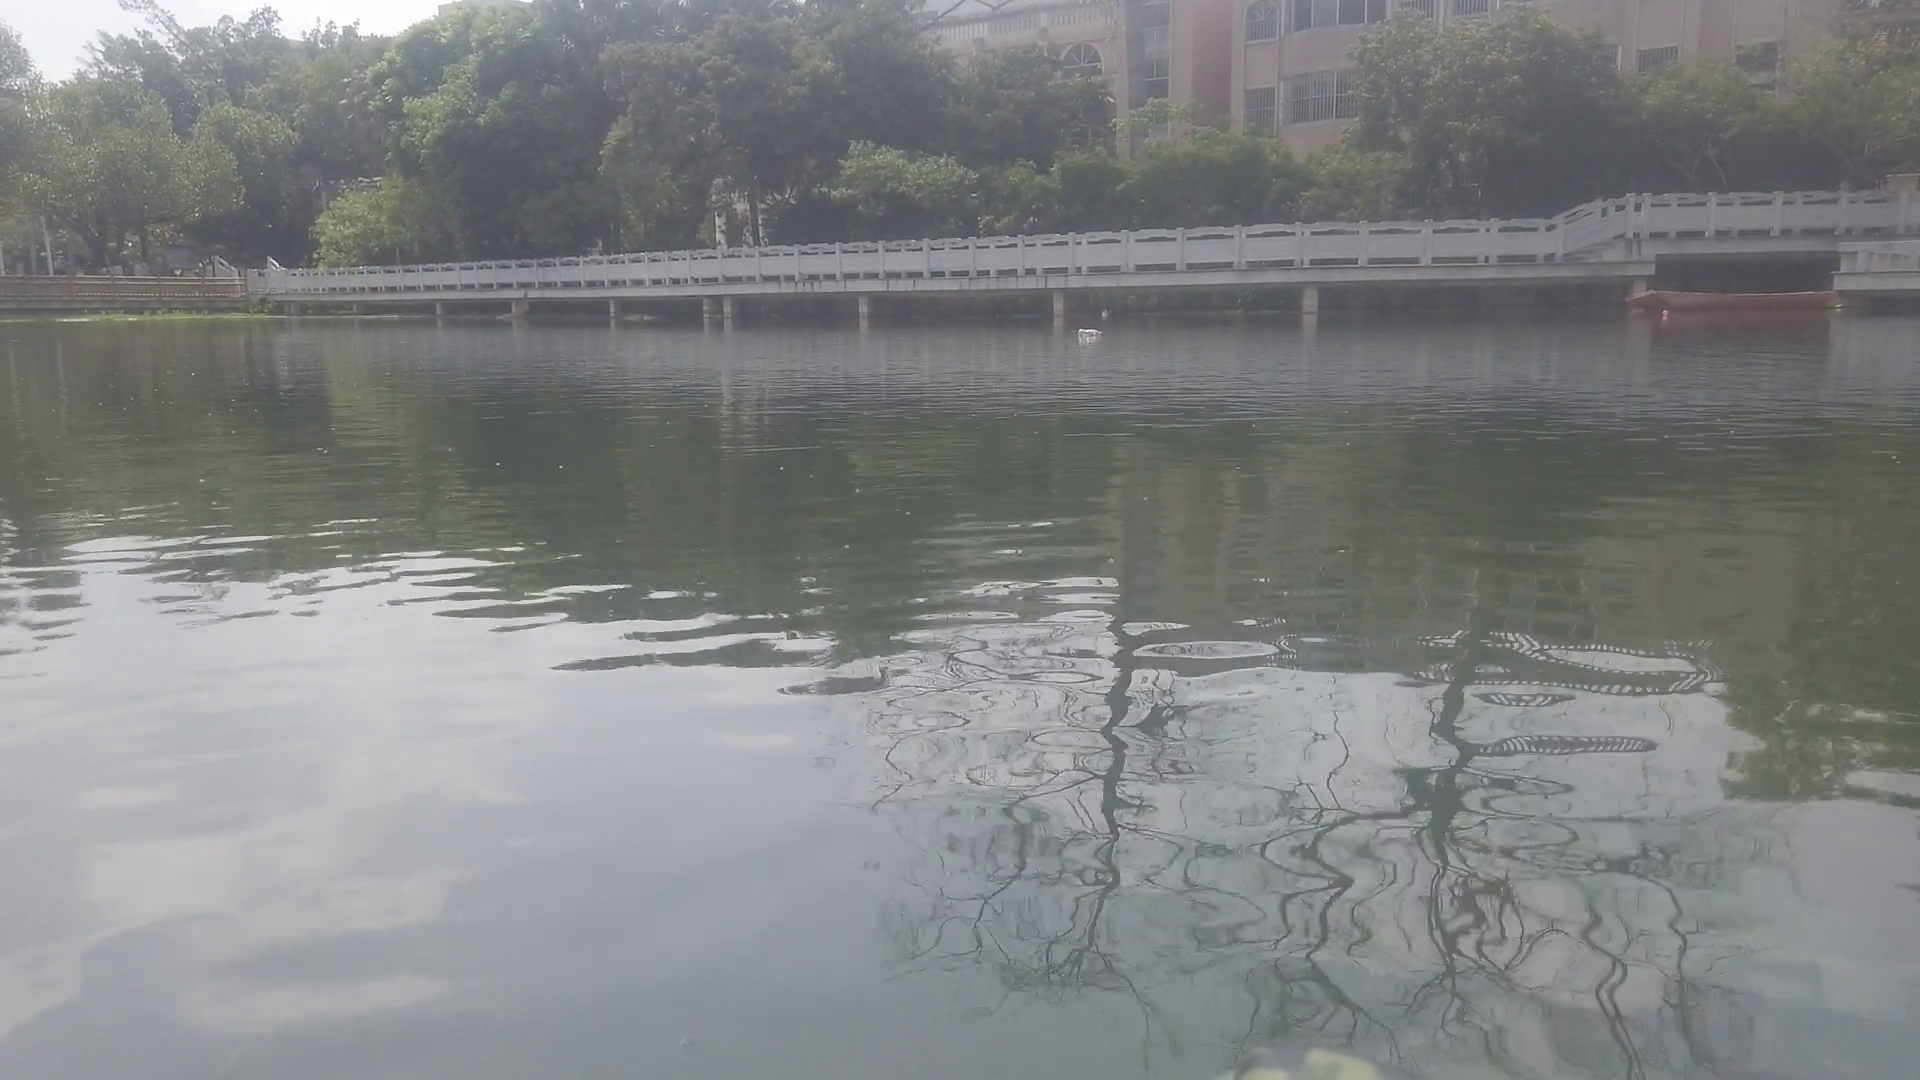bottle: (1077, 320, 1105, 338), (1660, 306, 1673, 316)
